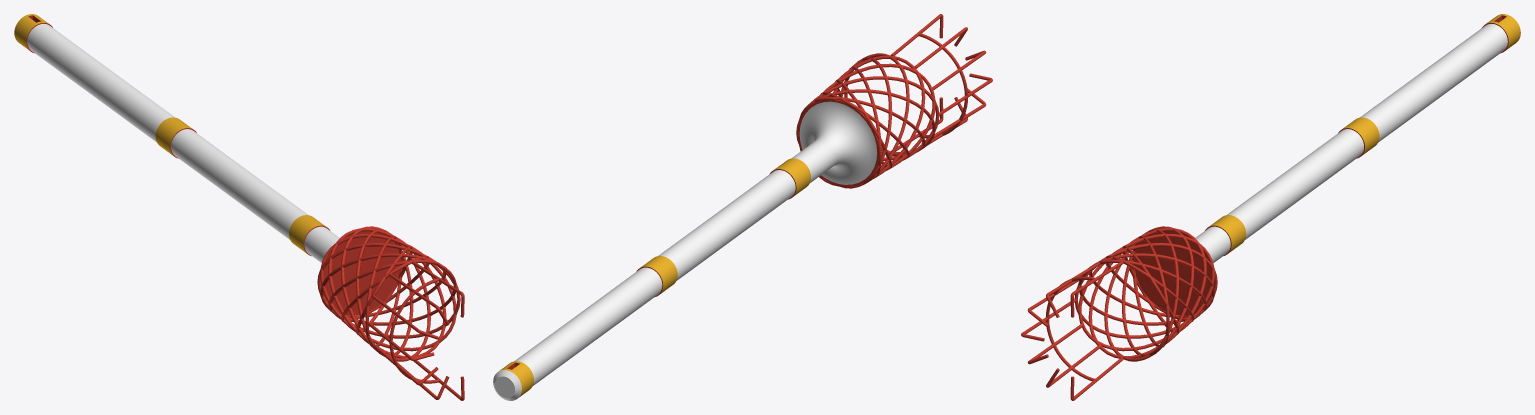
Rendered from Fruit_picker_v1.fbx.
The picture shows the model from 3 angles, left to right: view 1: azimuth 30°, elevation 25°; view 2: azimuth 150°, elevation 25°; view 3: azimuth 330°, elevation 25°; orthographic projection.
Parts seen in each view (by area): view 1: Body3, Body23; view 2: Body3, Body23; view 3: Body3, Body23.
Part boxes in pixels (x1,y1,x2,y2): Body3: (14, 14, 460, 361); Body23: (365, 261, 464, 400); Body3: (493, 53, 939, 400); Body23: (890, 14, 992, 151); Body3: (1074, 14, 1520, 361); Body23: (1021, 261, 1123, 400).
Size of the model in its own units: 137 by 144 by 1050.
